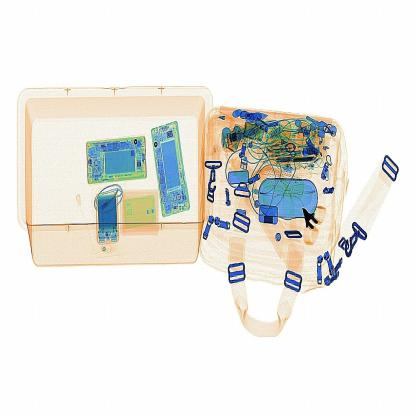gun: (294, 201, 340, 249)
